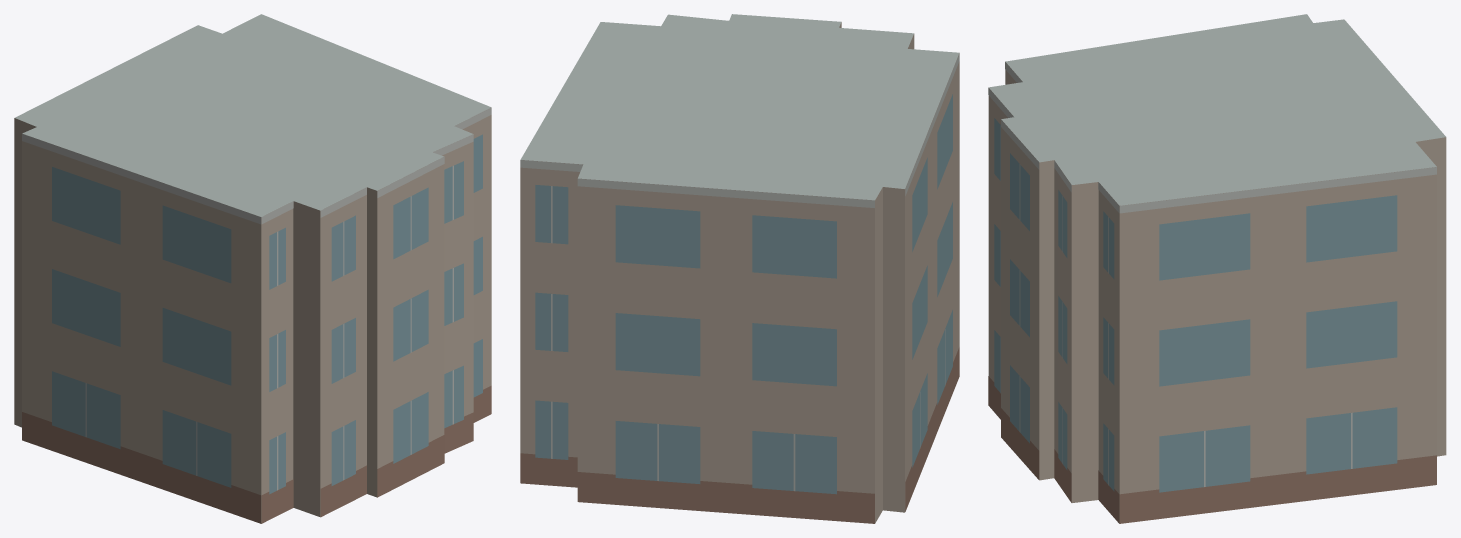
Rendered from survey-upis-32628354.glb.
The picture shows the model from 3 angles, left to right: view 1: azimuth 30°, elevation 25°; view 2: azimuth 150°, elevation 25°; view 3: azimuth 270°, elevation 25°; orthographic projection. The views are drawn at different scales.
Visible parts, largest first — view 1: survey-upis-32628354.tmp; view 2: survey-upis-32628354.tmp; view 3: survey-upis-32628354.tmp.
Boxes of the visible parts, left/top/right/bottom form: survey-upis-32628354.tmp: left=14, top=14, right=491, bottom=523; survey-upis-32628354.tmp: left=520, top=14, right=959, bottom=523; survey-upis-32628354.tmp: left=988, top=14, right=1446, bottom=523.
Bounding box in the file's own units: 13.07 × 10.1 × 13.19.
